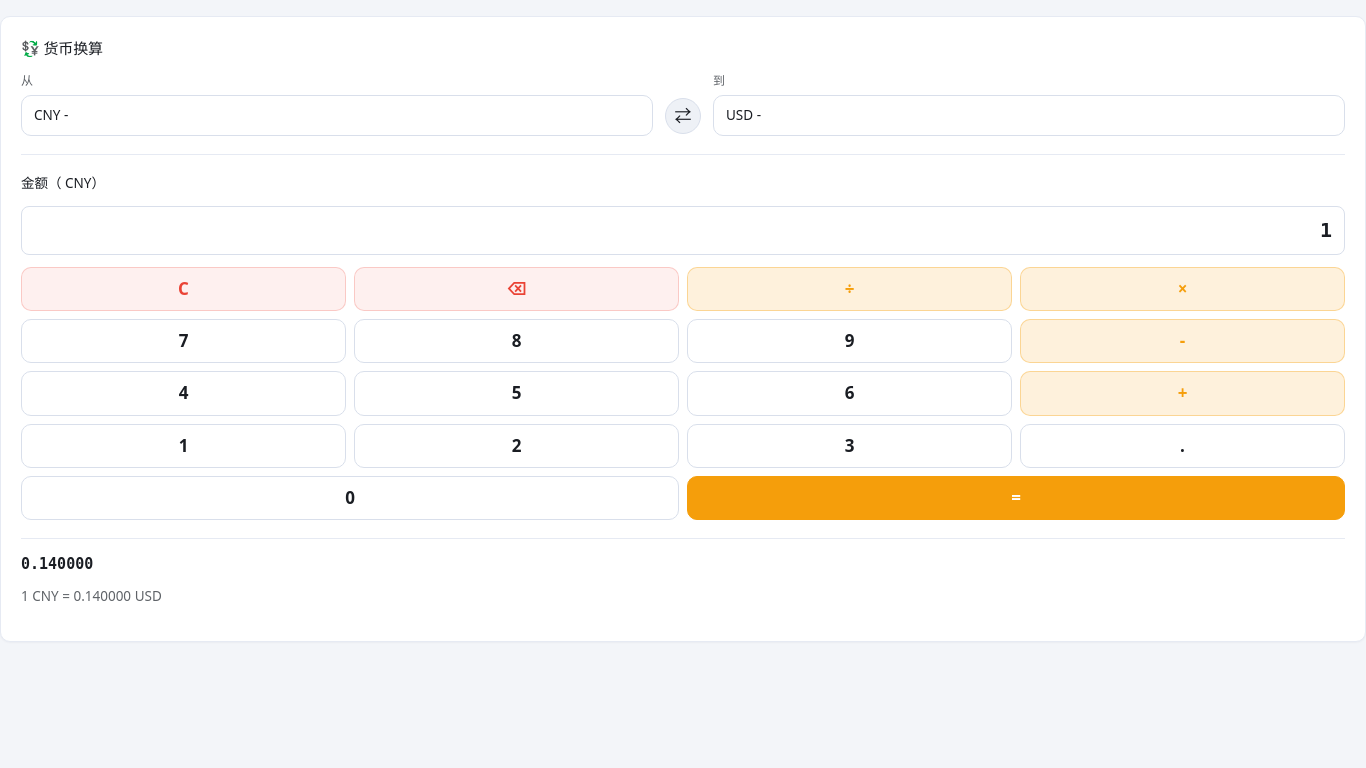
it: ExchangeConverter › 交换按钮应互换 from/to 货币
Click the button titled "交换货币".
click(683, 116)  # box [665,98,701,134]
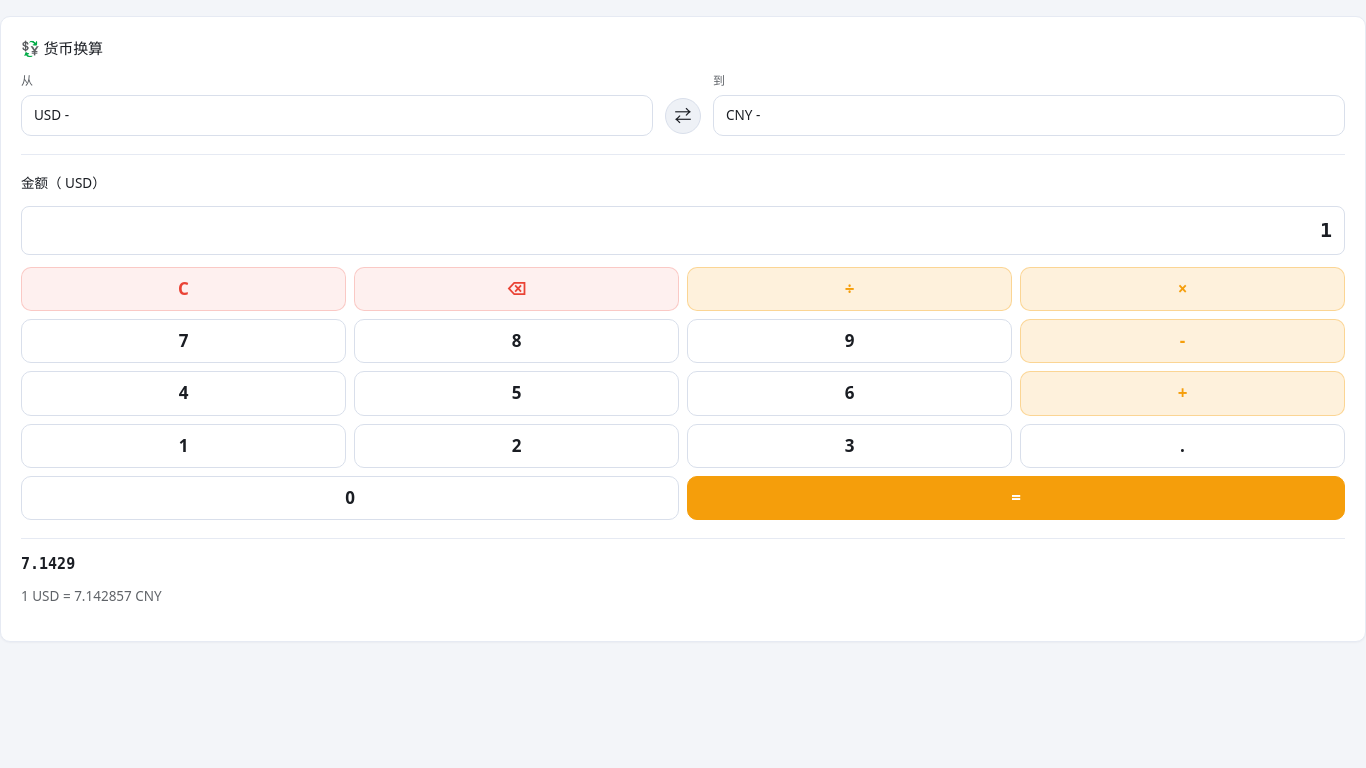
Check: the text named "换算结果" reads "7.1429", box [21,555,75,573]
